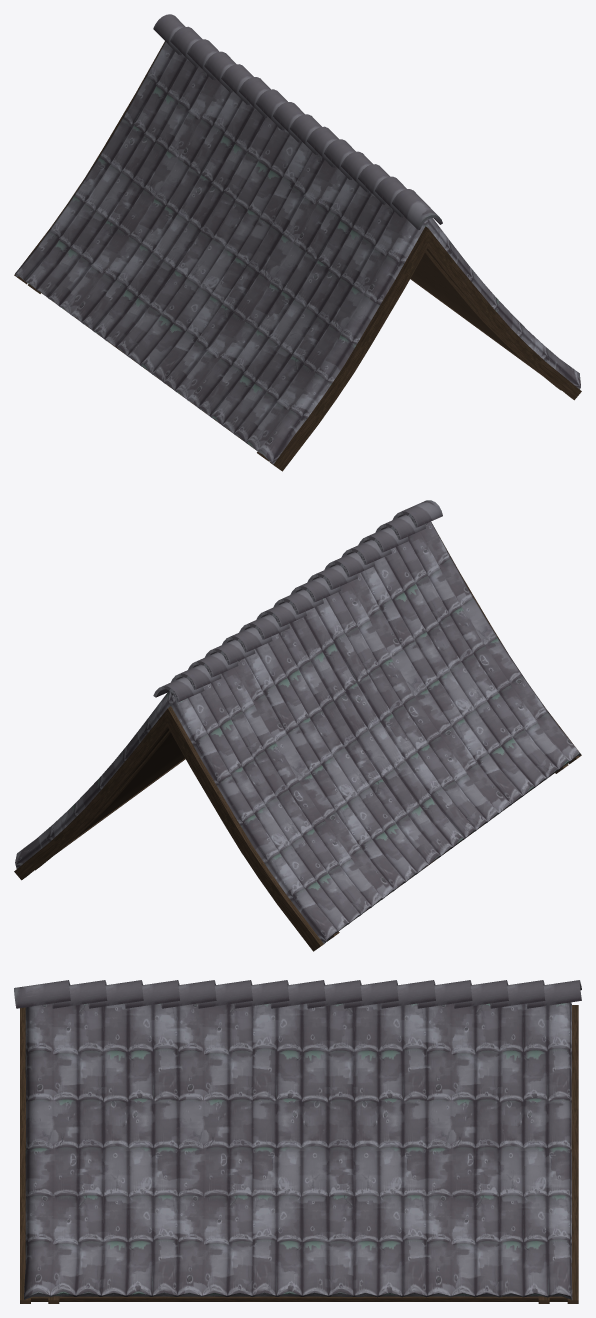
Rendered from Roof_RoundTiles_6x10.gltf.
3 views of the same model, one above another, from view 1: azimuth 30°, elevation 25°; view 2: azimuth 150°, elevation 25°; view 3: azimuth 270°, elevation 25° (orthographic). The views are drawn at different scales.
Visible parts, largest first — view 1: Roof_RoundTiles_6x10; view 2: Roof_RoundTiles_6x10; view 3: Roof_RoundTiles_6x10.
Boxes of the visible parts, left/top/right/bottom form: Roof_RoundTiles_6x10: left=14, top=14, right=581, bottom=471; Roof_RoundTiles_6x10: left=14, top=500, right=581, bottom=951; Roof_RoundTiles_6x10: left=14, top=980, right=581, bottom=1303.
Size of the model in its own units: 8.25 by 5.67 by 11.85.
Materials: 2 (2 with a texture image).
